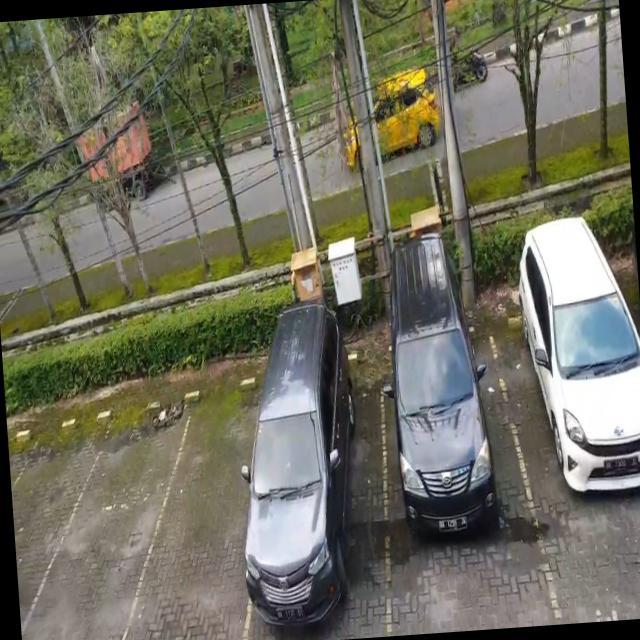empty: (55, 398, 177, 640), (140, 396, 253, 640)
occupied: (226, 349, 398, 640), (372, 303, 529, 594), (507, 291, 640, 570)
